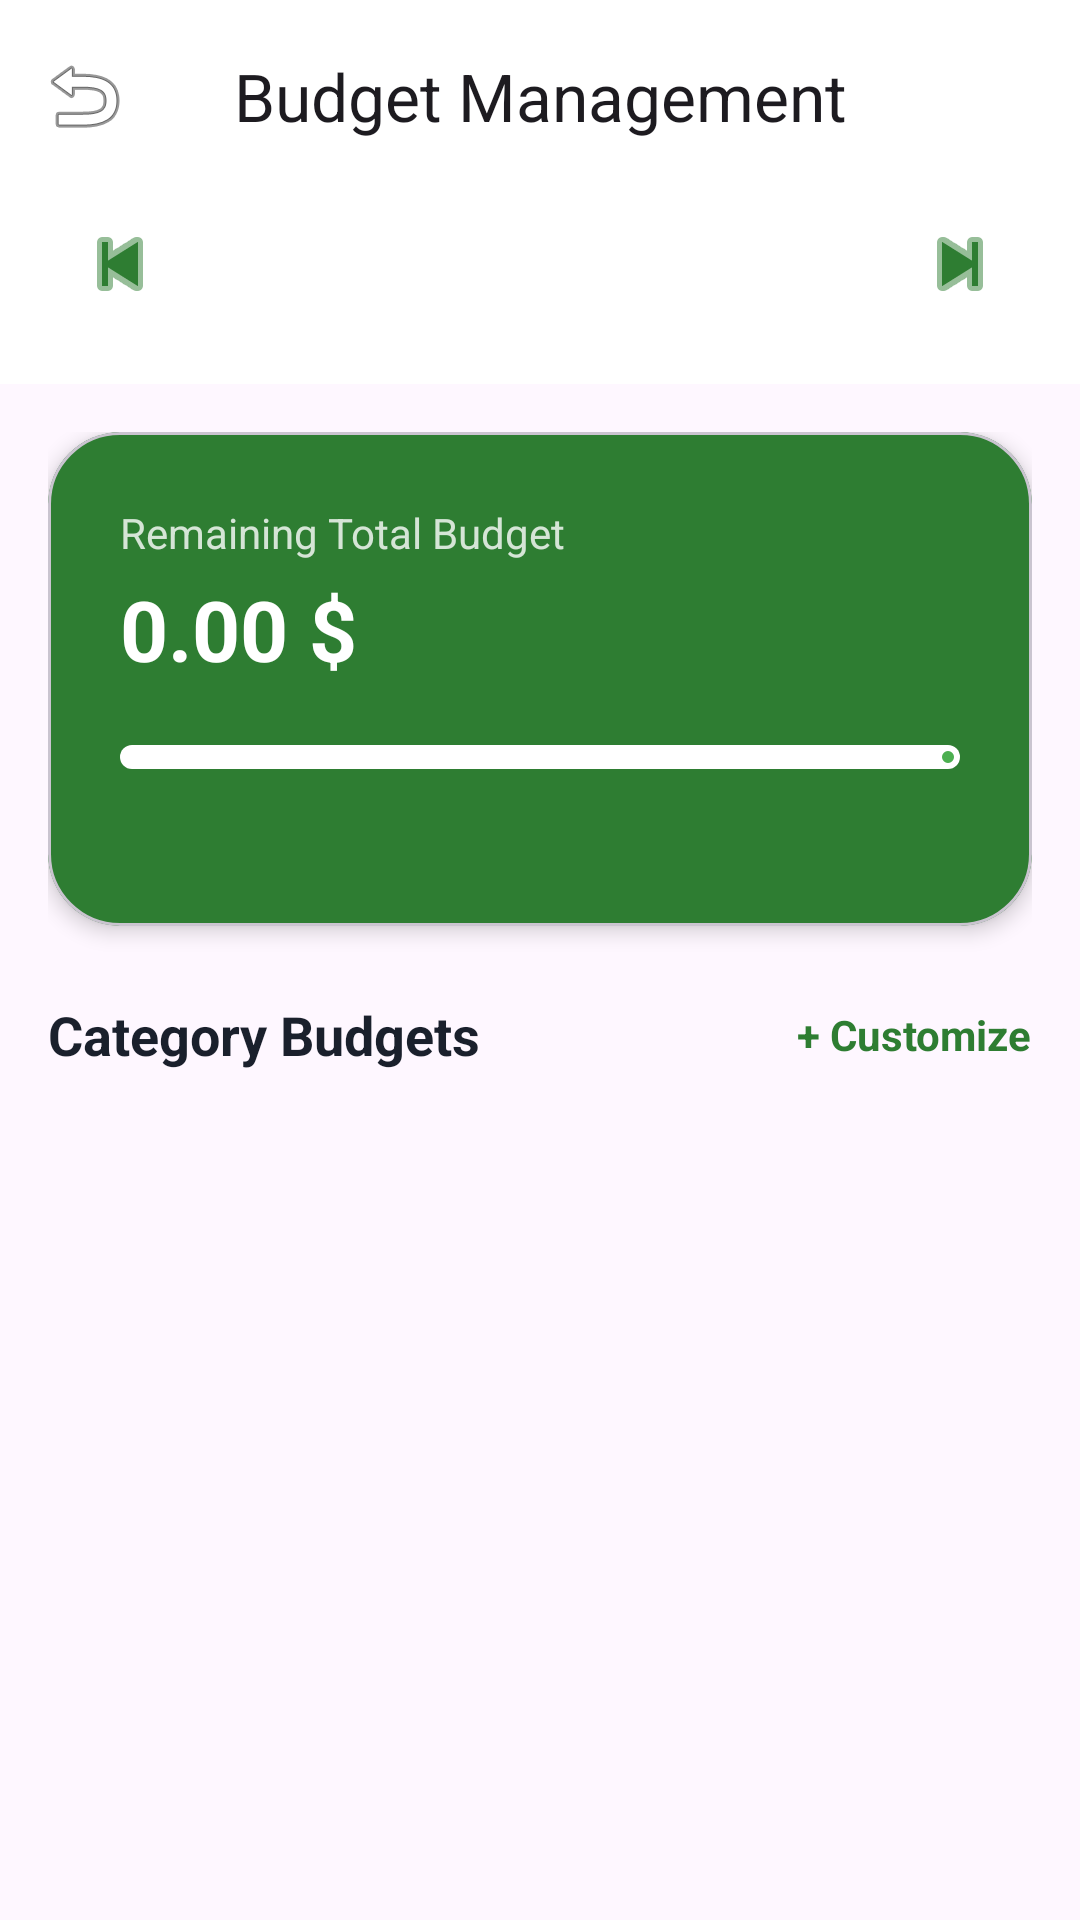

Icon bounding boxes for this 1080px×1920px phone screenshot, format (x1, y1, x2, y2):
next: (937, 237, 983, 291)
previous: (97, 237, 143, 291)
